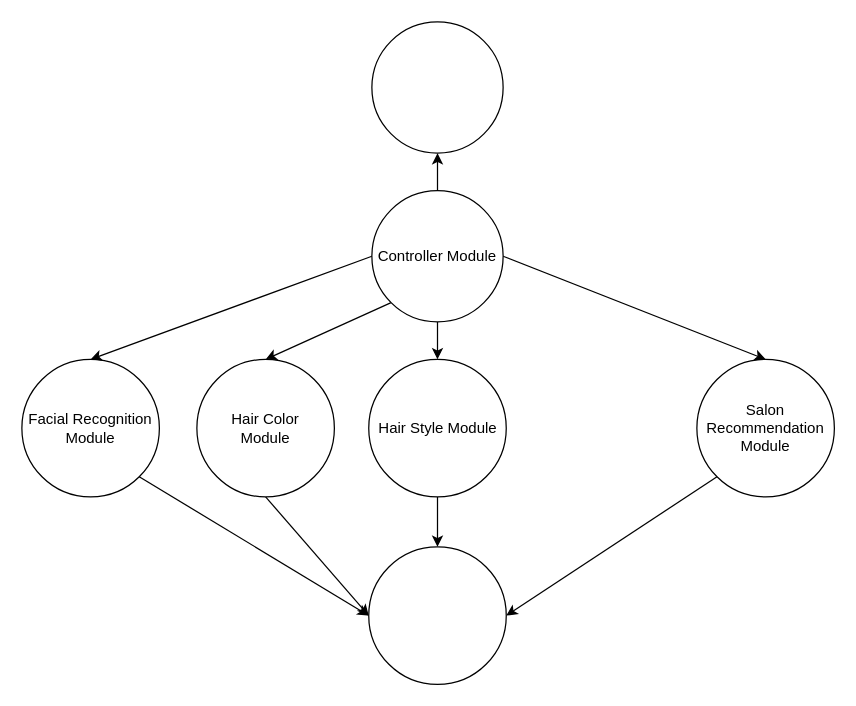
The diagram is 856 pixels wide and 706 high, and some of its shapes have lost their labels. The shapes that lost their labels are listed below. From the top down, each one's centre as x and y in pixels, then its label:
(437,87): User Interface
(437,615): Utility Module
